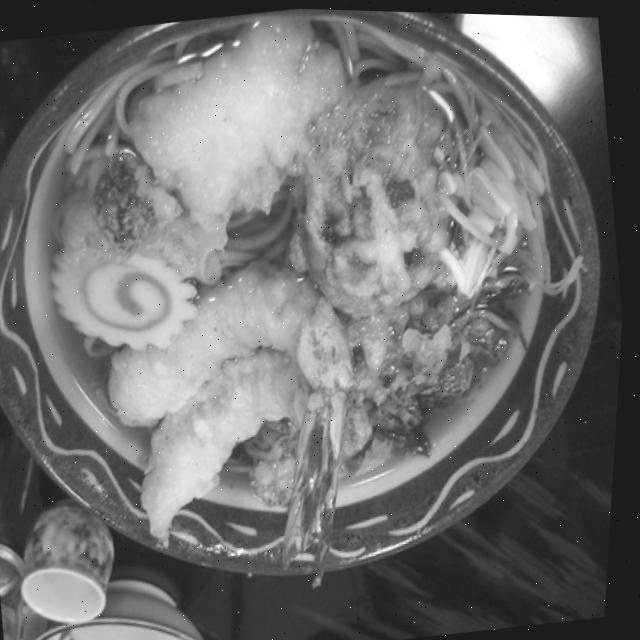面条主食: (2, 1, 582, 593)
